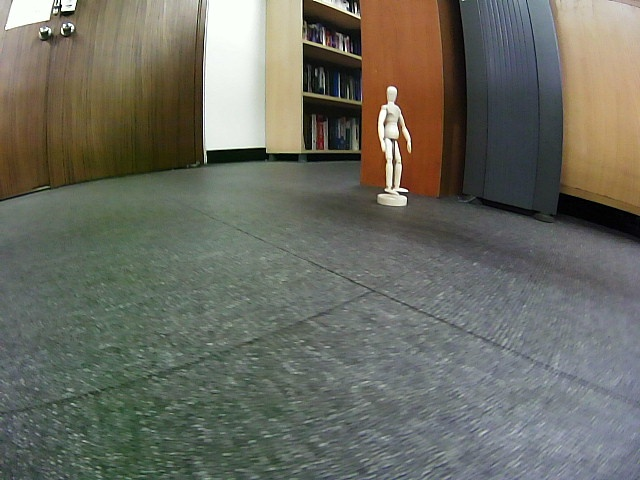person: (377, 85, 412, 195)
